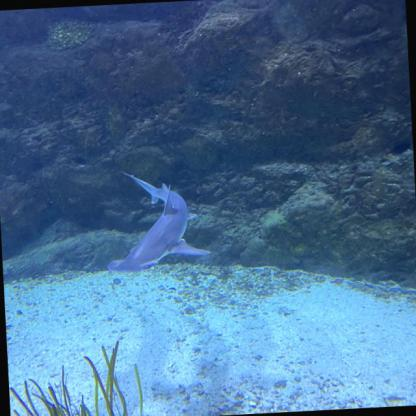shark: (103, 164, 212, 277)
